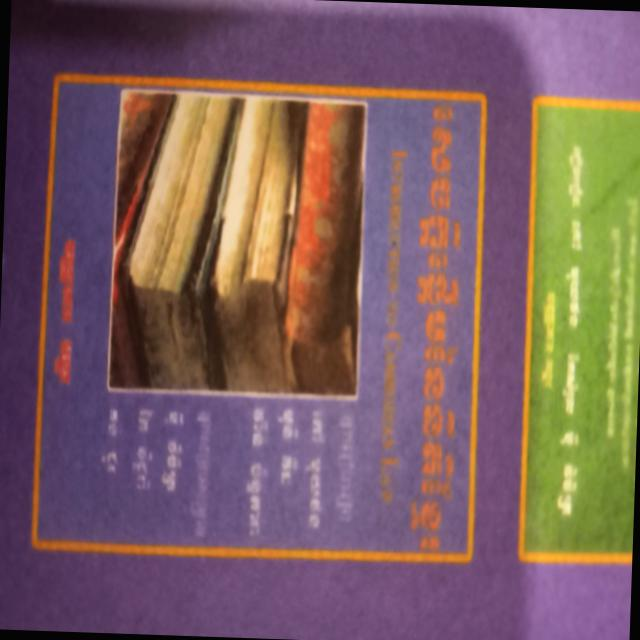Yolov11_80vkh: (403, 97, 474, 556)
